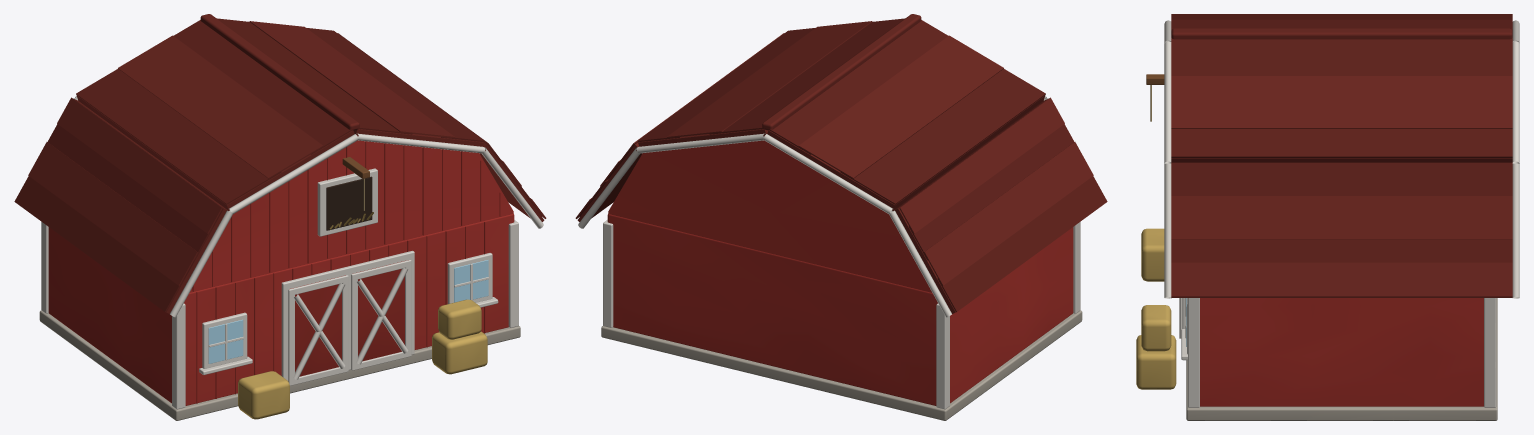
File: bld_barn.glb
3 views of the same model, side by side, from view 1: azimuth 30°, elevation 25°; view 2: azimuth 150°, elevation 25°; view 3: azimuth 270°, elevation 25° (orthographic). The views are drawn at different scales.
Visible parts, largest first — view 1: bld_barn_main, bld_barn_glass; view 2: bld_barn_main; view 3: bld_barn_main.
Part boxes in pixels (x1,y1,x2,y2): bld_barn_main: (14, 14, 546, 420); bld_barn_glass: (208, 260, 488, 363); bld_barn_main: (575, 14, 1107, 420); bld_barn_main: (1136, 14, 1519, 420).
Bounding box in the file's own units: 4.98 × 3.25 × 3.82.
